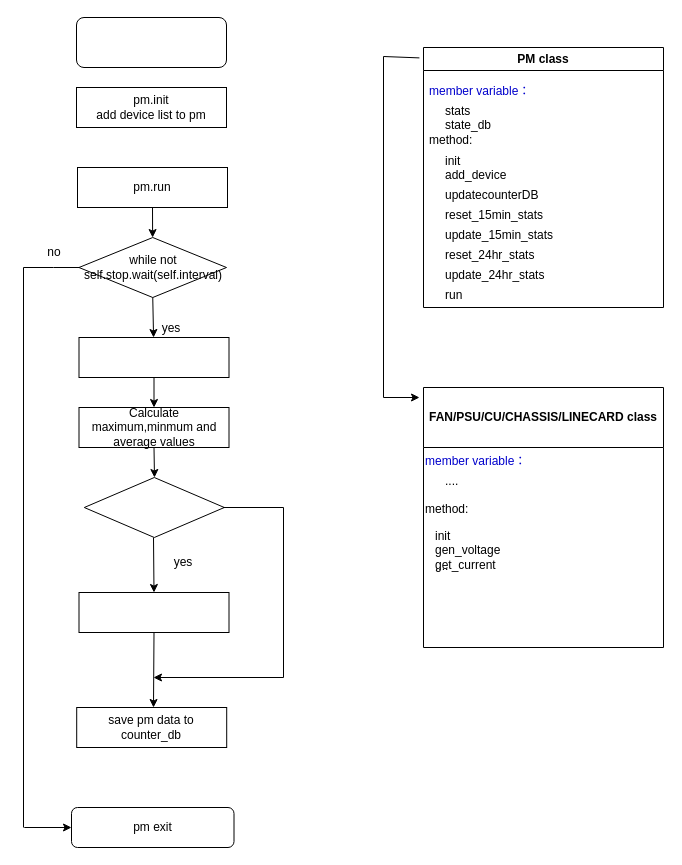
This 682x865 diagram has some shape labels left out. Here are the shapes that lost their labels. From the top down, the centre of each, then its label:
the point at 151,42: PM Daemon
the point at 153,357: Iterate device attributes to update pm values
the point at 153,507: if 15min/24hr interval is met
the point at 153,612: Reset pm value statistics
